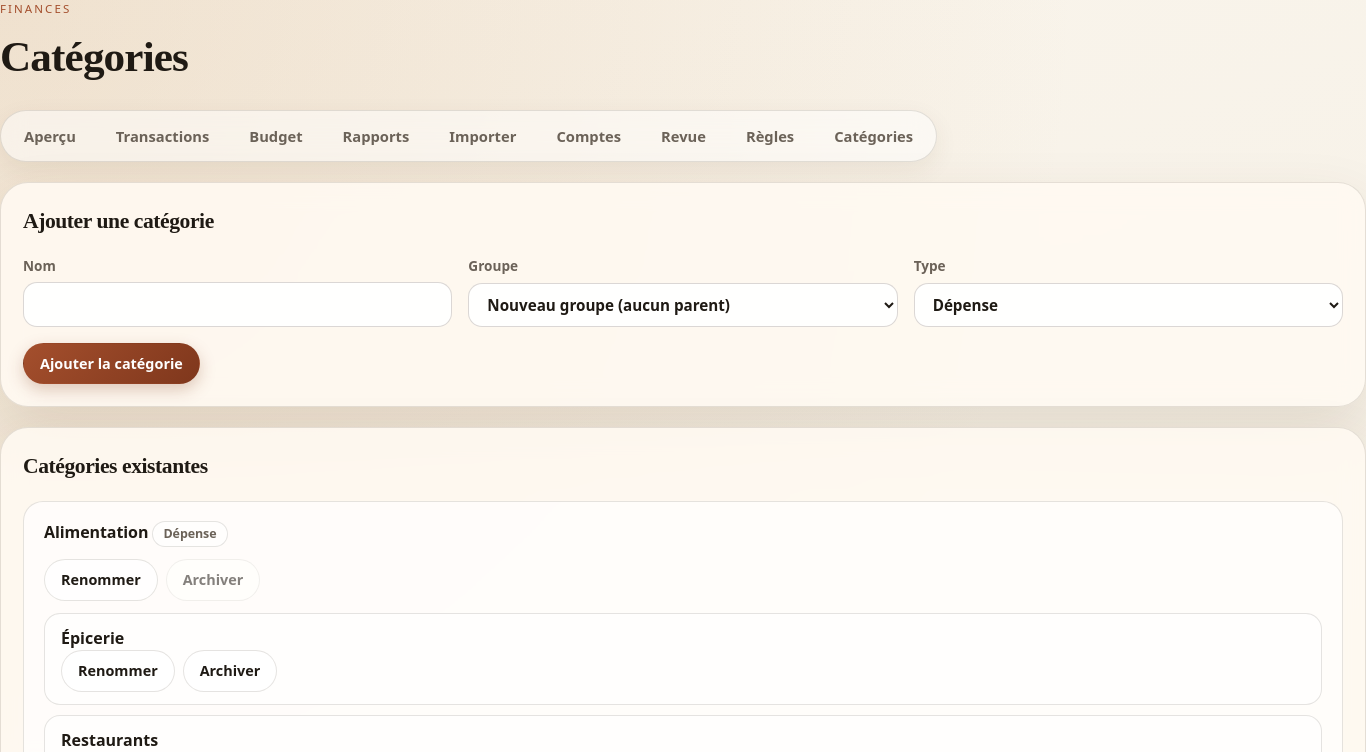
Scenario: FinanceCategoriesPage › adds a new income group
This screenshot has width=1366, height=752.
Expected: the heading "Alimentation Dépense" is shown, [44,521,228,547]
In the field labelled "Nom": (238, 304) [23,282,452,327], type "Placements"
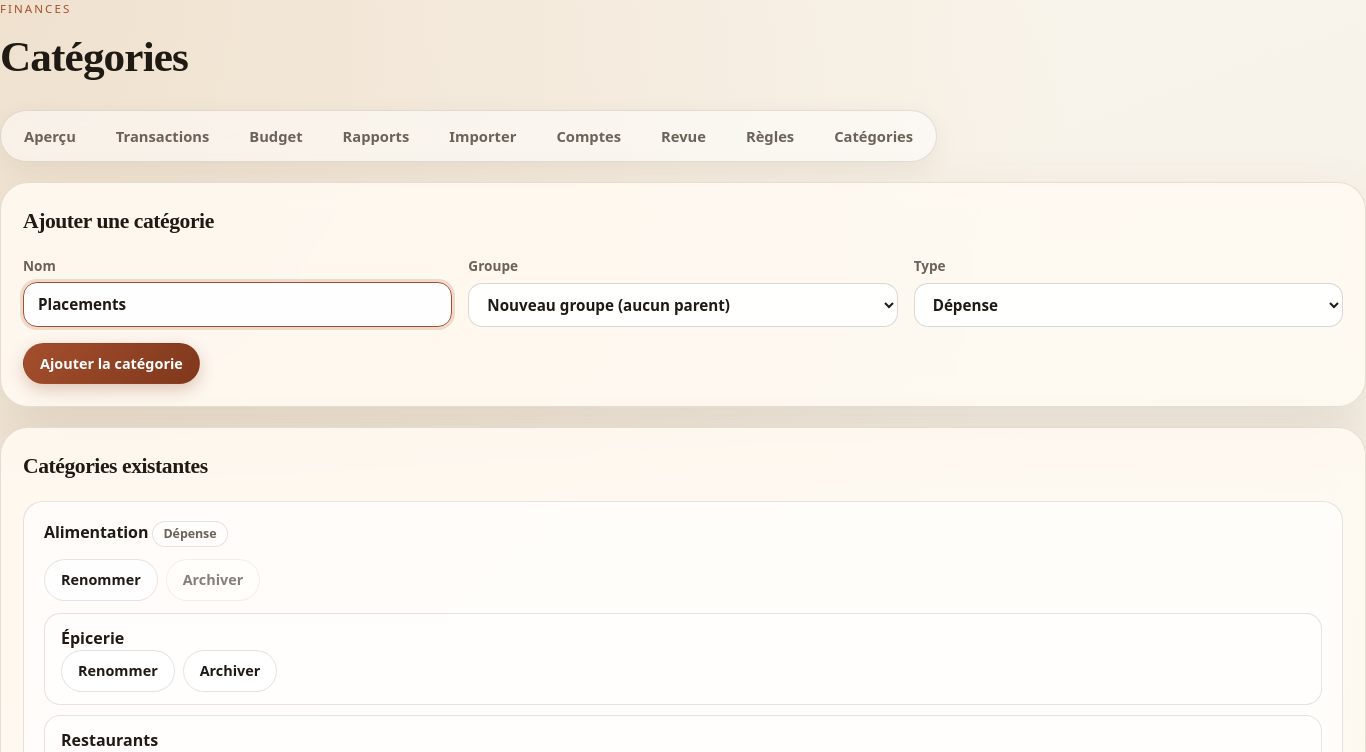
Select "Revenu" in the dropdown labelled "Type": (1128, 305) [914,283,1343,327]
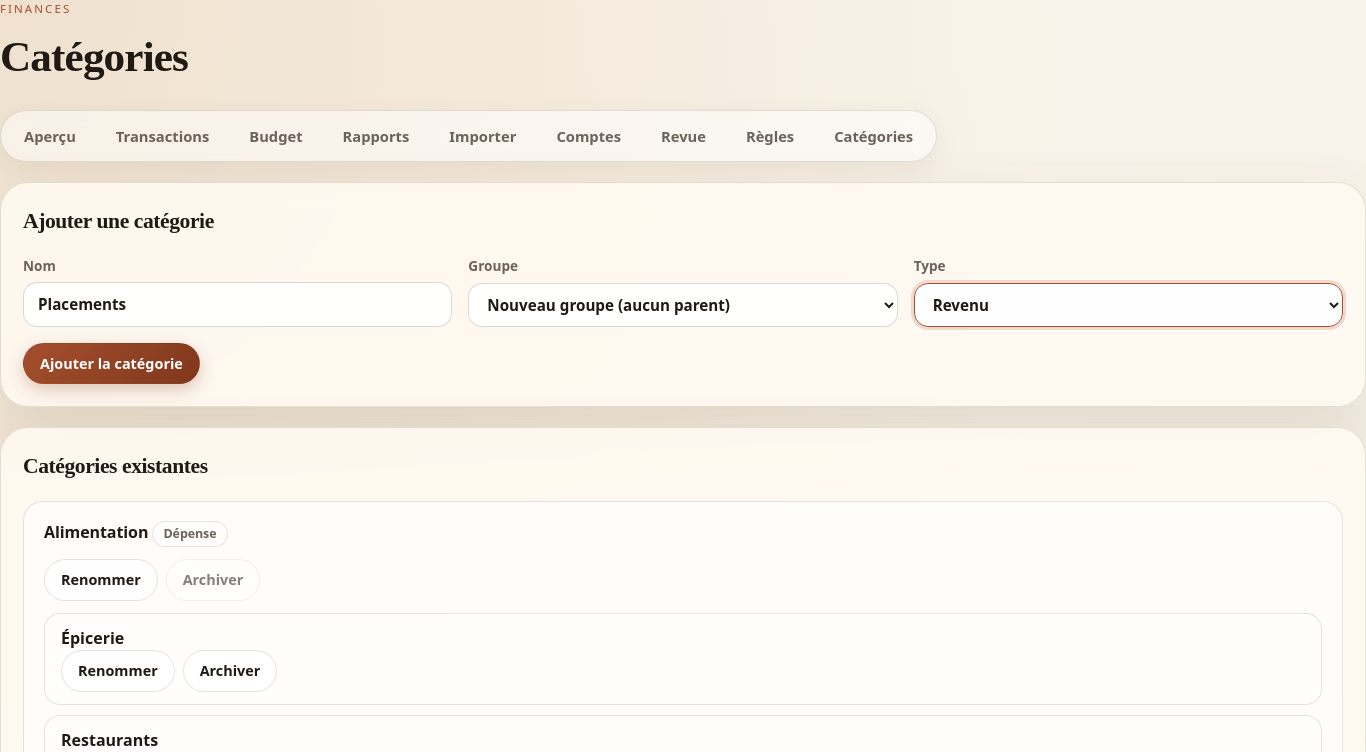
Click the button "Ajouter la catégorie": (111, 364) [23,343,200,384]
(page scrolled)
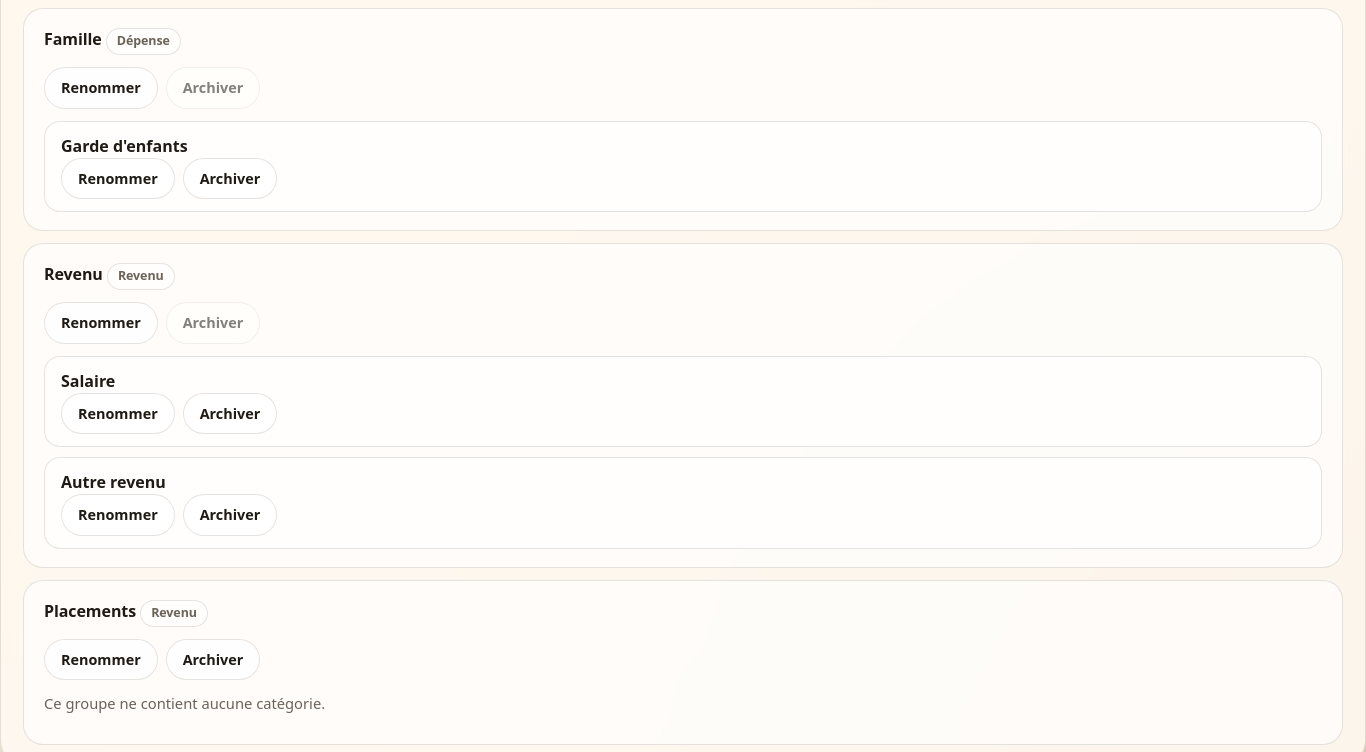
Now the heading "Placements Revenu" is shown, box [44,600,208,627]
